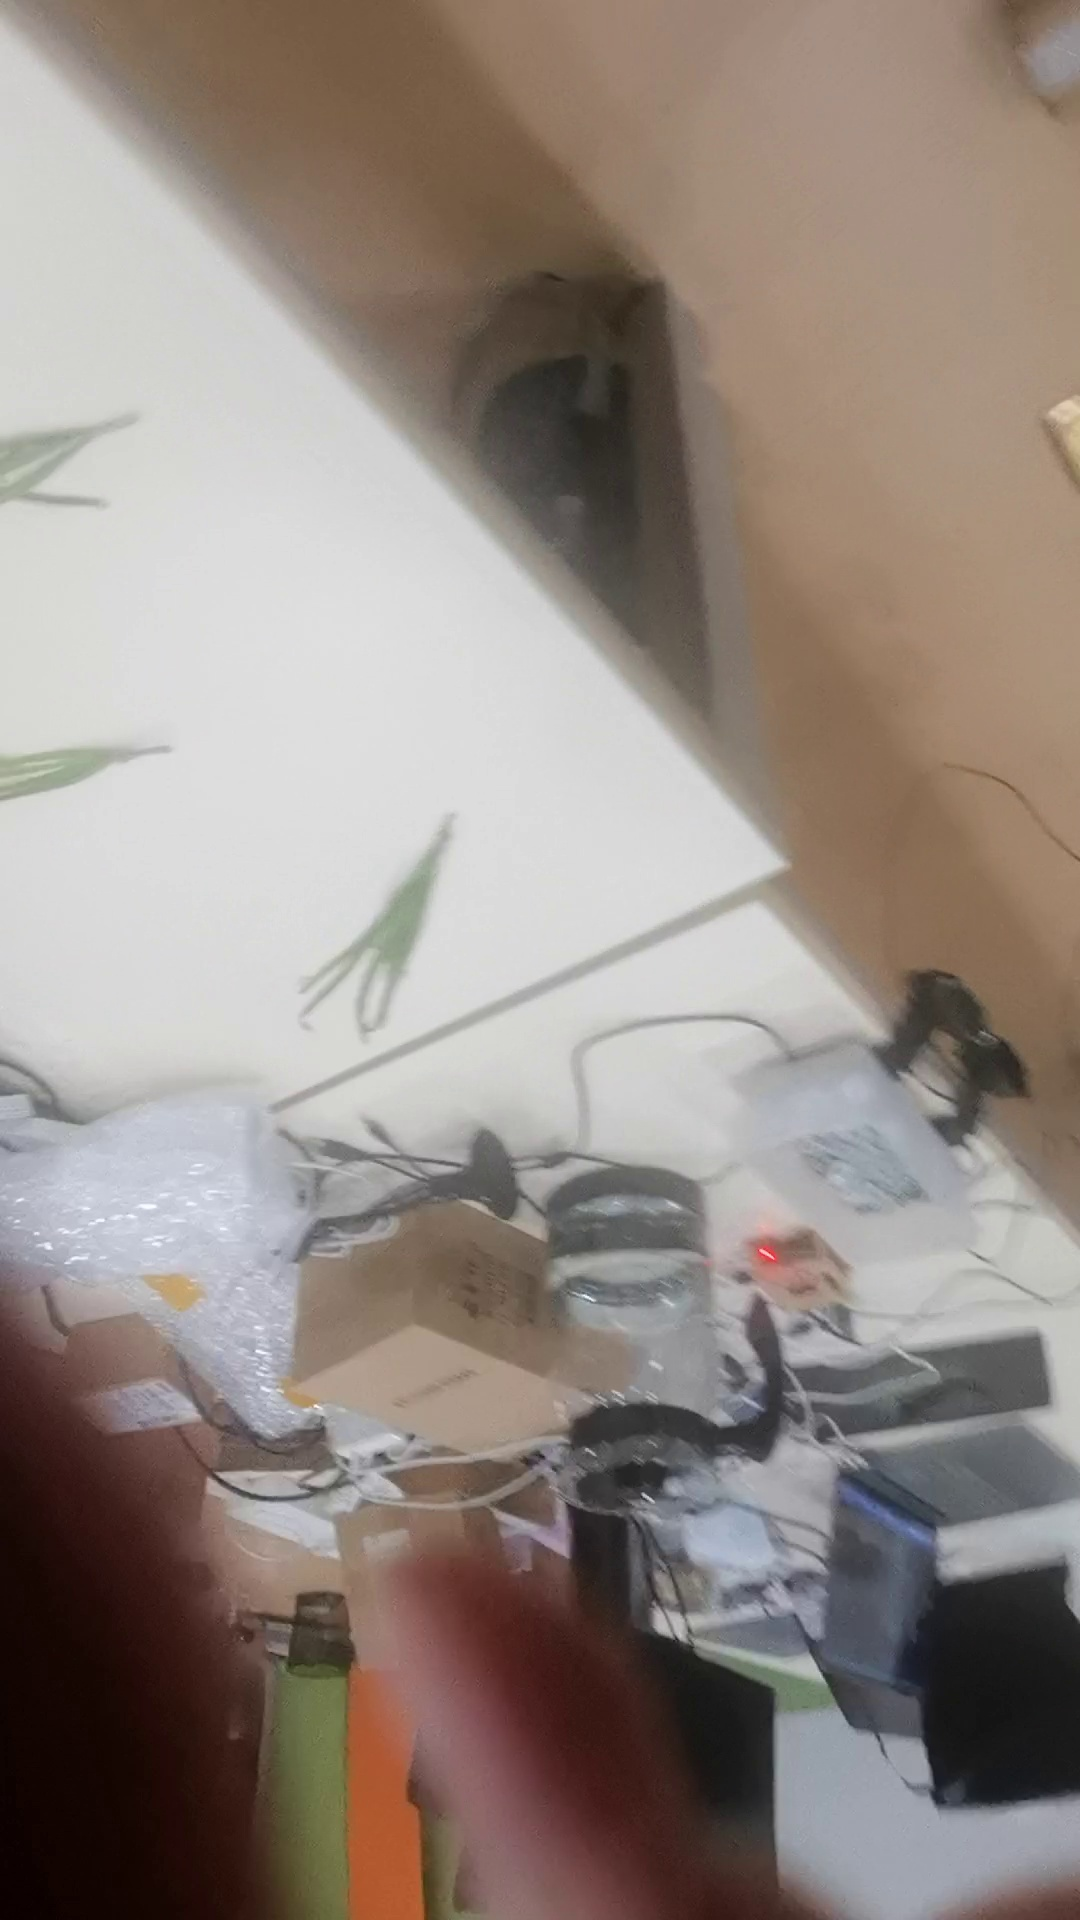chives: (281, 815, 498, 1039)
